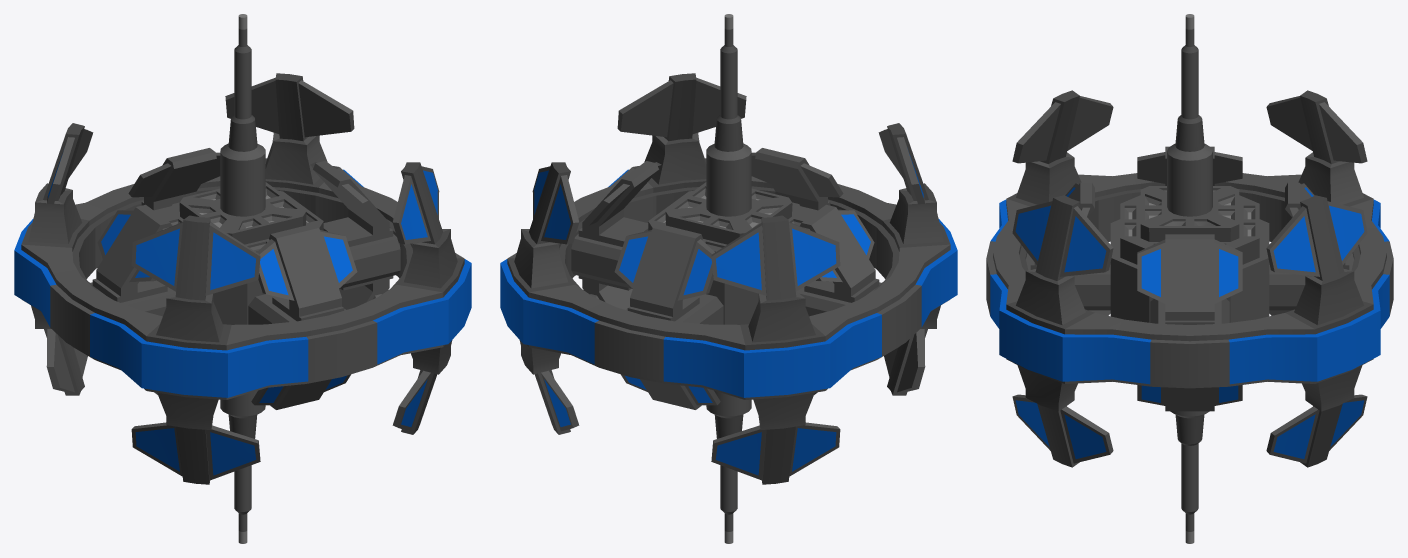
File: 01_structure_range_extender.glb
The picture shows the model from 3 angles, left to right: view 1: azimuth 30°, elevation 25°; view 2: azimuth 150°, elevation 25°; view 3: azimuth 270°, elevation 25°; orthographic projection.
Parts seen in each view (by area): view 1: 01_structure_range_extender; view 2: 01_structure_range_extender; view 3: 01_structure_range_extender.
Boxes of the visible parts, bbox=[...] form: 01_structure_range_extender: bbox=[14, 14, 471, 543]; 01_structure_range_extender: bbox=[500, 14, 957, 543]; 01_structure_range_extender: bbox=[986, 14, 1393, 543].
Size of the model in its own units: 1 by 1.43 by 1.
